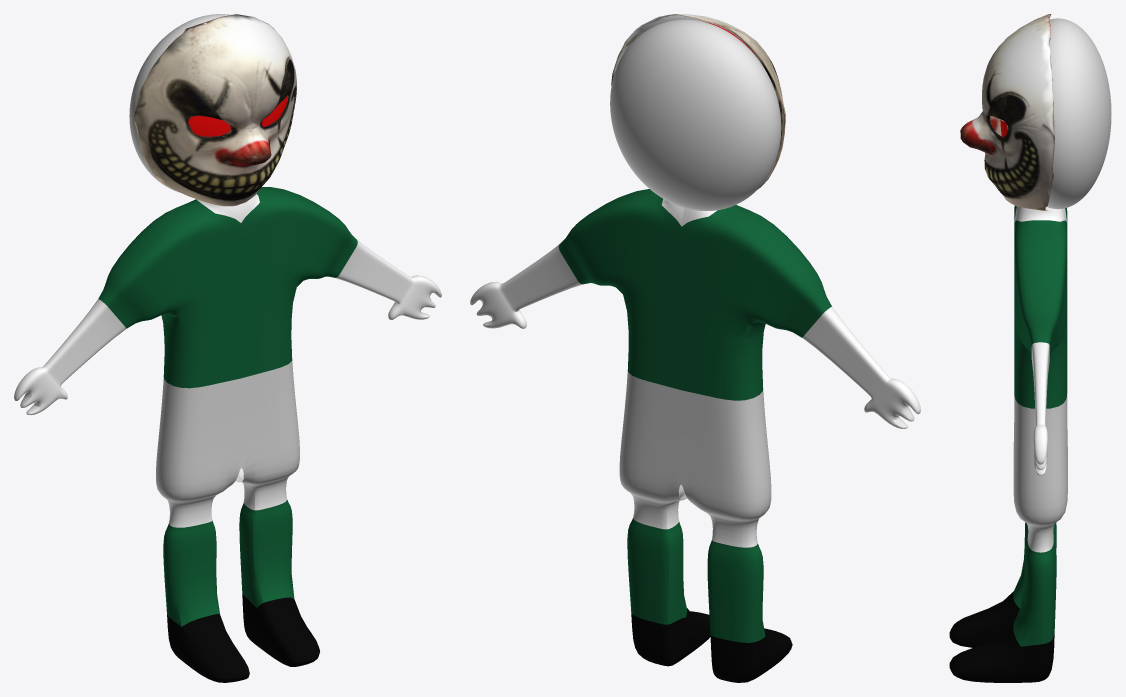
Rendered from Footballer Clown.fbx.
3 renders of one model, left to right at view 1: azimuth 30°, elevation 25°; view 2: azimuth 150°, elevation 25°; view 3: azimuth 270°, elevation 25°, orthographic. The views are drawn at different scales.
Parts seen in each view (by area): view 1: Body, Mask Clown; view 2: Body, Mask Clown; view 3: Body, Mask Clown.
Part boxes in pixels (x1,y1,x2,y2): Body: [14, 14, 441, 682]; Mask Clown: [134, 14, 296, 206]; Body: [470, 19, 920, 682]; Mask Clown: [611, 14, 785, 189]; Body: [949, 18, 1111, 682]; Mask Clown: [960, 14, 1054, 210].
Bounding box in the file's own units: 400 × 563 × 131.
7 materials, 1 textured.
